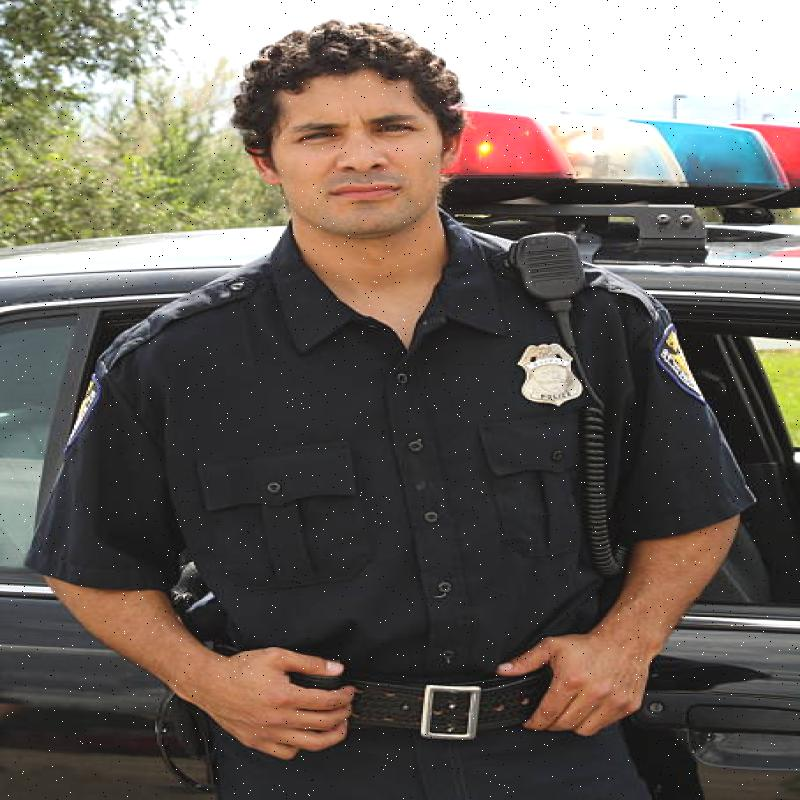AmbulanceSiren: (451, 86, 800, 218)
